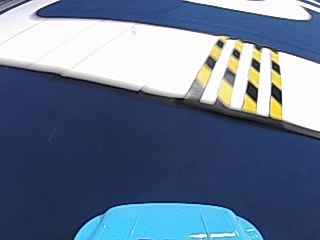bump: (185, 37, 287, 116)
